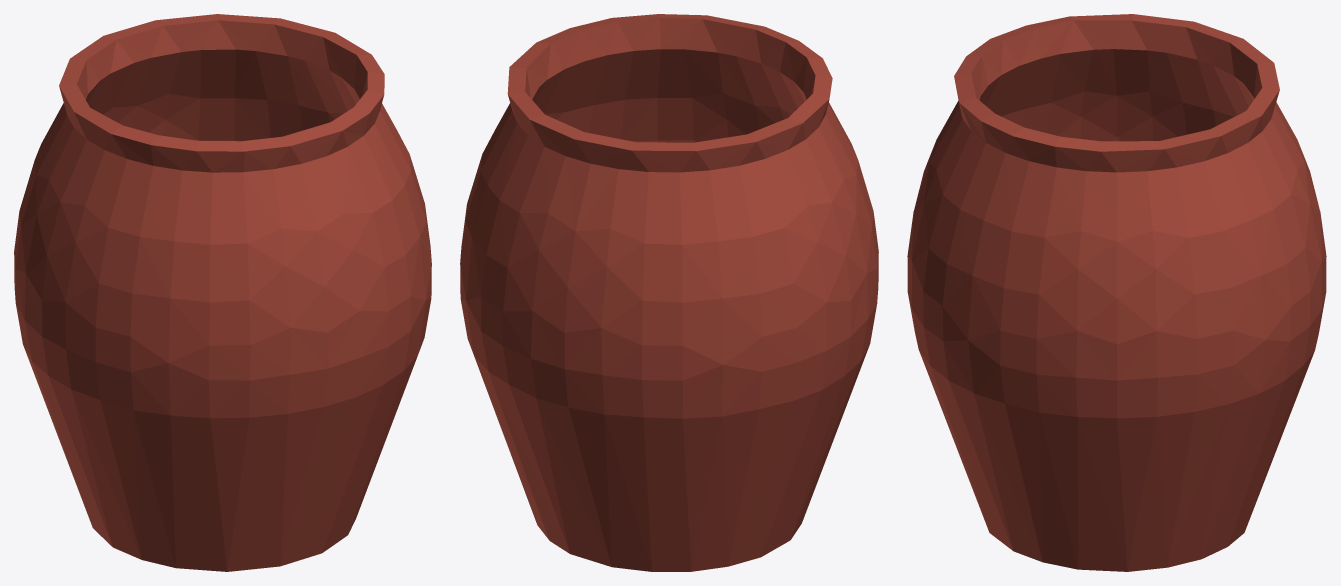
Rendered from Pottery 1_1.fbx.
The picture shows the model from 3 angles, left to right: view 1: azimuth 30°, elevation 25°; view 2: azimuth 150°, elevation 25°; view 3: azimuth 270°, elevation 25°; orthographic projection.
Visible parts, largest first — view 1: Pottery 1_1; view 2: Pottery 1_1; view 3: Pottery 1_1.
Boxes of the visible parts, box(x1,y1,x2,y2) form: Pottery 1_1: box(14, 14, 431, 571); Pottery 1_1: box(460, 14, 878, 571); Pottery 1_1: box(907, 14, 1326, 571).
Bounding box in the file's own units: 72.32 × 83.05 × 72.32.
